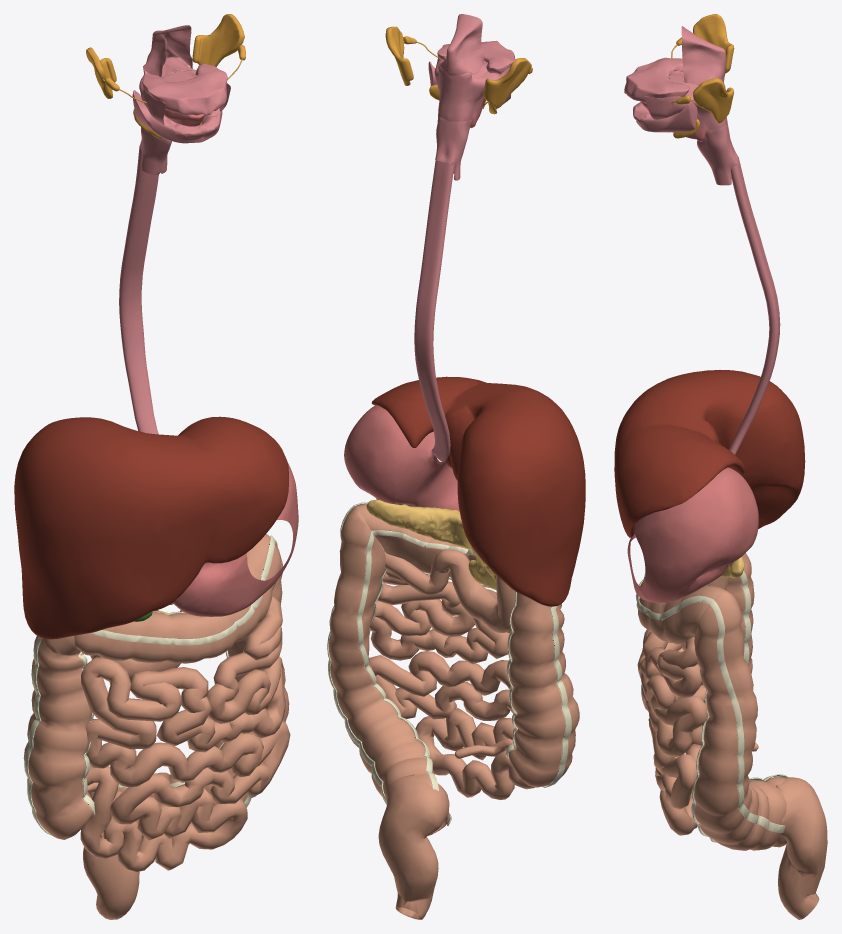
File: digestive.glb
3 renders of one model, left to right at view 1: azimuth 30°, elevation 25°; view 2: azimuth 150°, elevation 25°; view 3: azimuth 270°, elevation 25°, orthographic. The views are drawn at different scales.
Visible parts, largest first — view 1: liver, jejunum, ascending-colon, transverse-colon, oesophagus, gingiva, stomach, sigmoid-colon, mesocolic-taenia, parotid-gland-left, nasopharynx, laryngopharynx (+5 smaller); view 2: liver, jejunum, descending-colon, ascending-colon, stomach, sigmoid-colon, oesophagus, pancreas, duodenum, free-taenia, oropharynx, mesocolic-taenia (+7 smaller); view 3: liver, descending-colon, stomach, jejunum, sigmoid-colon, oesophagus, gingiva, mesocolic-taenia, transverse-colon, nasopharynx, laryngopharynx, parotid-gland-left (+4 smaller).
Boxes of the visible parts, x1=… form: liver: x1=14, y1=416, x2=288, y2=639; jejunum: x1=80, y1=596, x2=290, y2=871; ascending-colon: x1=23, y1=635, x2=92, y2=839; transverse-colon: x1=74, y1=534, x2=281, y2=663; oesophagus: x1=119, y1=145, x2=158, y2=434; gingiva: x1=132, y1=64, x2=227, y2=143; stomach: x1=173, y1=463, x2=298, y2=616; sigmoid-colon: x1=83, y1=791, x2=139, y2=919; mesocolic-taenia: x1=24, y1=535, x2=277, y2=835; parotid-gland-left: x1=192, y1=14, x2=244, y2=66; nasopharynx: x1=143, y1=25, x2=192, y2=76; laryngopharynx: x1=140, y1=127, x2=171, y2=174; liver: x1=371, y1=376, x2=585, y2=606; jejunum: x1=369, y1=552, x2=534, y2=799; descending-colon: x1=329, y1=506, x2=449, y2=835; ascending-colon: x1=508, y1=592, x2=579, y2=787; stomach: x1=344, y1=405, x2=459, y2=511; sigmoid-colon: x1=378, y1=774, x2=449, y2=919; oesophagus: x1=414, y1=160, x2=454, y2=461; pancreas: x1=366, y1=500, x2=496, y2=589; duodenum: x1=432, y1=549, x2=516, y2=632; free-taenia: x1=356, y1=530, x2=517, y2=790; oropharynx: x1=434, y1=57, x2=509, y2=121; mesocolic-taenia: x1=327, y1=502, x2=571, y2=804; liver: x1=614, y1=370, x2=805, y2=537; descending-colon: x1=694, y1=591, x2=787, y2=850; stomach: x1=627, y1=467, x2=758, y2=603; jejunum: x1=637, y1=629, x2=707, y2=835; sigmoid-colon: x1=775, y1=777, x2=827, y2=919; oesophagus: x1=729, y1=157, x2=780, y2=454; gingiva: x1=624, y1=57, x2=697, y2=132; mesocolic-taenia: x1=636, y1=574, x2=785, y2=832; transverse-colon: x1=637, y1=577, x2=727, y2=644; nasopharynx: x1=681, y1=26, x2=726, y2=84; laryngopharynx: x1=697, y1=122, x2=738, y2=185; parotid-gland-left: x1=693, y1=78, x2=734, y2=123.
Bounding box in the file's own units: 0.2292 × 0.7875 × 0.1712.
